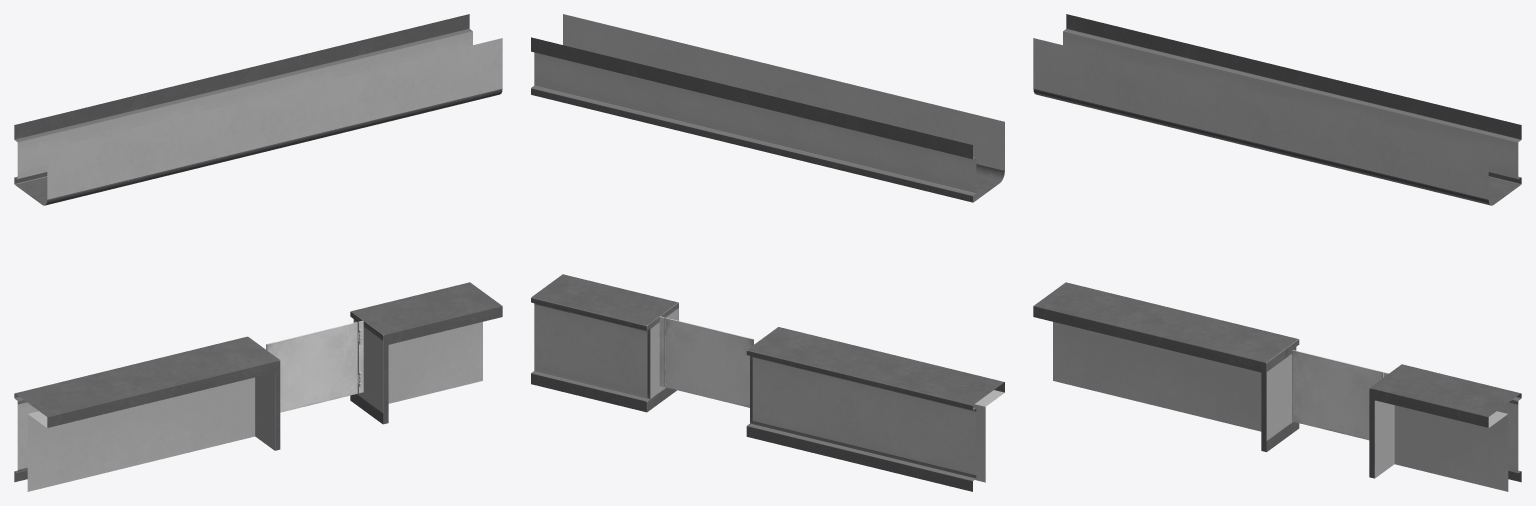
Rendered from Counter.fbx.
The picture shows the model from 3 angles, left to right: view 1: azimuth 30°, elevation 25°; view 2: azimuth 150°, elevation 25°; view 3: azimuth 330°, elevation 25°; orthographic projection. The views are drawn at different scales.
Parts seen in each view (by area): view 1: Counter_01; view 2: Counter_01; view 3: Counter_01.
Part boxes in pixels (x1,y1,x2,y2): Counter_01: (14, 14, 502, 491); Counter_01: (531, 14, 1004, 491); Counter_01: (1033, 14, 1521, 491).
Size of the model in its own units: 400 by 300 by 50.
